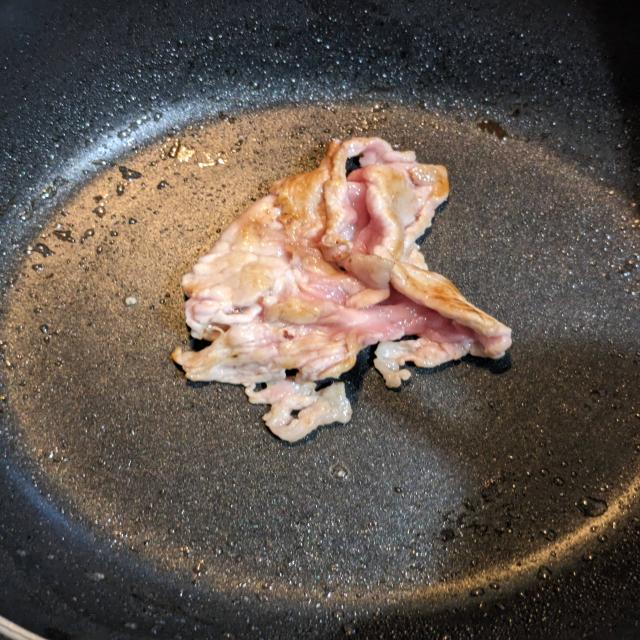NG undercooked pork,: (160, 128, 527, 453)
